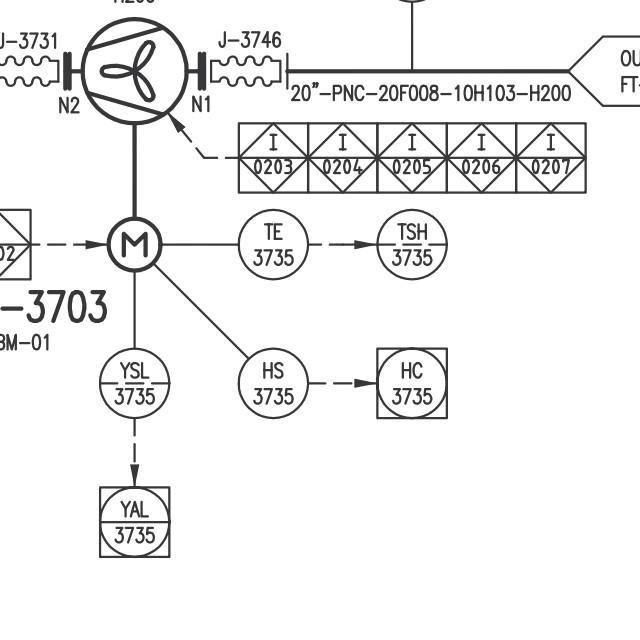EJ: (200, 52, 291, 95), (0, 50, 66, 92)
F: (77, 10, 185, 125)
M: (107, 215, 162, 274)
